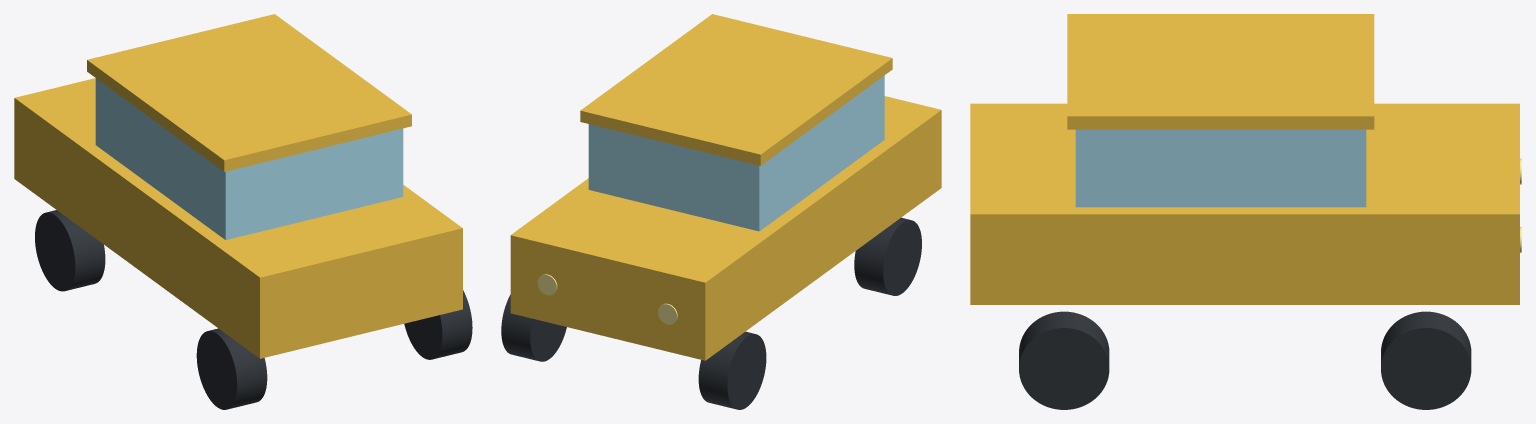
Rendered from car-yellow.glb.
The picture shows the model from 3 angles, left to right: view 1: azimuth 30°, elevation 25°; view 2: azimuth 150°, elevation 25°; view 3: azimuth 270°, elevation 25°; orthographic projection. The views are drawn at different scales.
Parts seen in each view (by area): view 1: body, roof, cabin, wheel-0.82-1.12, wheel-0.821.12, wheel0.82-1.12; view 2: body, roof, cabin, wheel-0.821.12, wheel-0.82-1.12, wheel0.821.12; view 3: body, roof, cabin, wheel0.821.12, wheel0.82-1.12.
Boxes of the visible parts, x1,y1,x2,y2 form: body: [14, 78, 462, 358]; roof: [87, 14, 411, 171]; cabin: [95, 78, 403, 239]; wheel-0.82-1.12: [196, 328, 267, 409]; wheel-0.821.12: [35, 210, 105, 291]; wheel0.82-1.12: [404, 290, 472, 359]; body: [510, 96, 941, 360]; roof: [580, 14, 892, 165]; cabin: [588, 75, 884, 231]; wheel-0.821.12: [698, 331, 766, 409]; wheel-0.82-1.12: [854, 217, 921, 295]; wheel0.821.12: [501, 294, 566, 361]; body: [970, 103, 1519, 304]; roof: [1067, 14, 1374, 129]; cabin: [1075, 129, 1366, 207]; wheel0.821.12: [1381, 311, 1471, 409]; wheel0.82-1.12: [1019, 311, 1109, 409].
Size of the model in its own units: 1.88 by 1.86 by 3.41.
